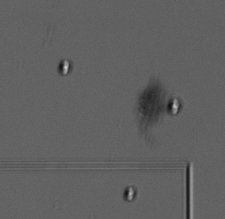Living Cell: (166, 95, 183, 115), (122, 185, 139, 202), (57, 58, 73, 75)
